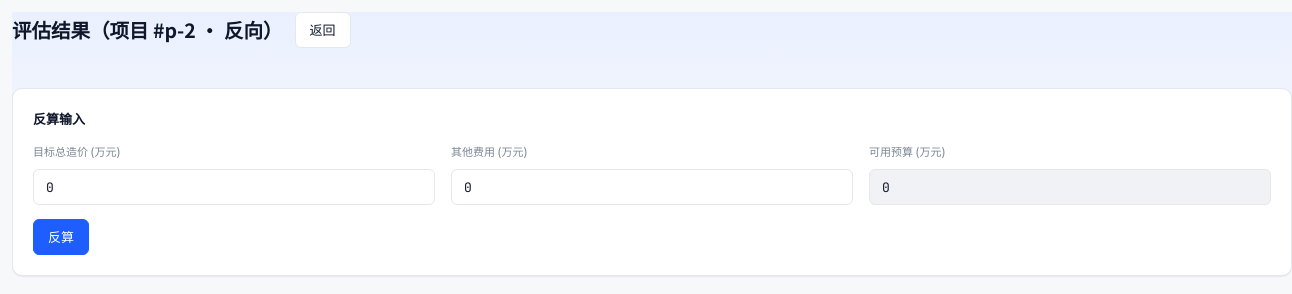
Test: ResultView › reverse 模式：可用预算 = target - other（disabled 字段）(v2.4)
Replace the text in the number field below "目标总造价 (万元)" with "1500000" at [234, 187], box x1=33 y1=169 x2=435 y2=205
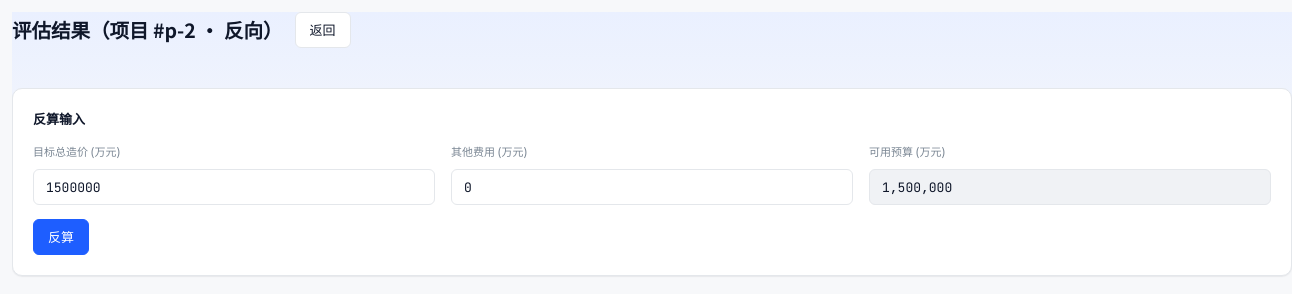
Replace the text in the number field below "其他费用 (万元)" with "60000" at [652, 187], box x1=451 y1=169 x2=853 y2=205
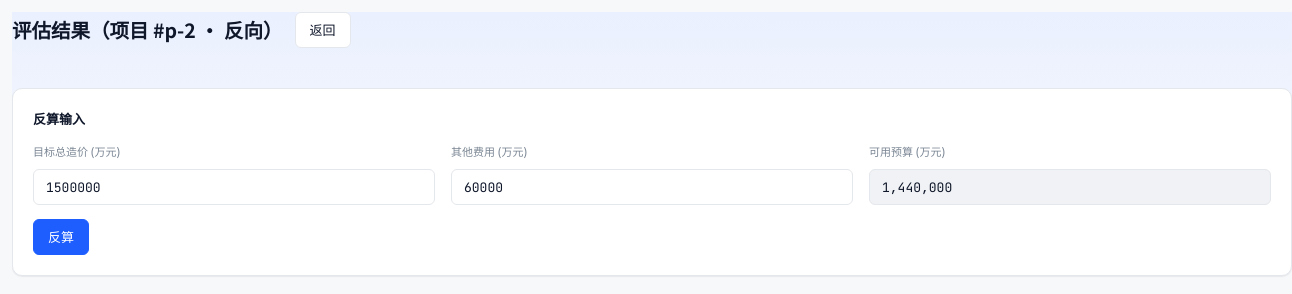
Expected: the field with class "field-input" holds "1,440,000", x1=869 y1=169 x2=1271 y2=205
